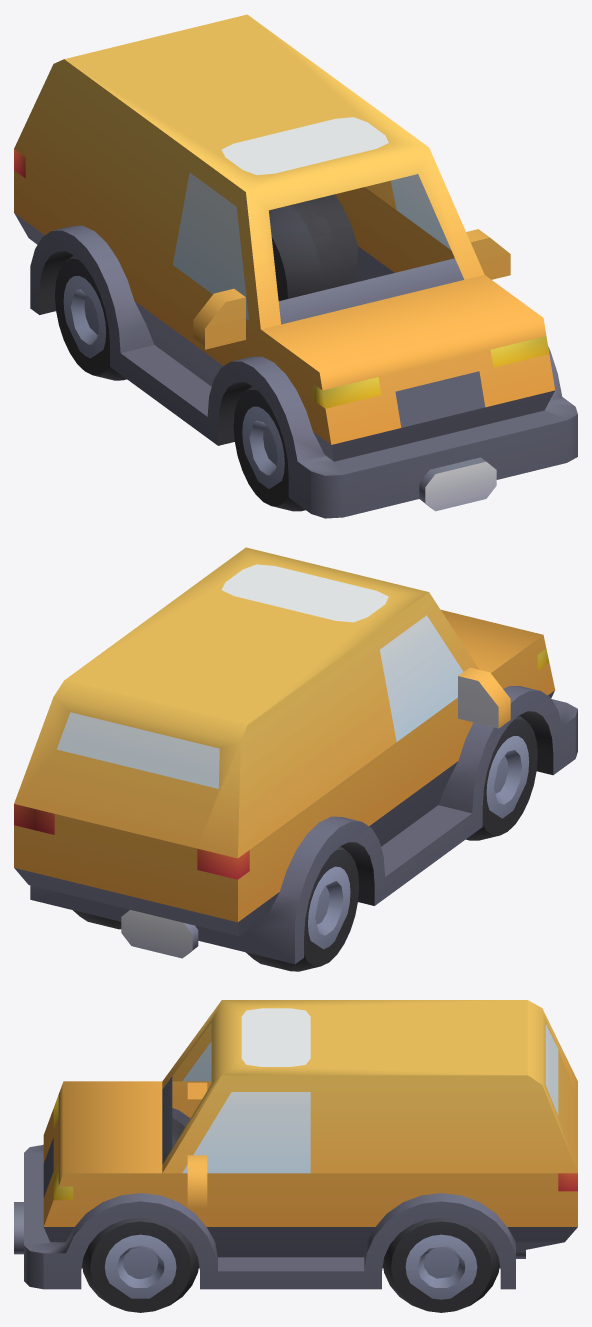
Rendered from traffic_prado.glb.
The picture shows the model from 3 angles, top to bottom: view 1: azimuth 30°, elevation 25°; view 2: azimuth 150°, elevation 25°; view 3: azimuth 270°, elevation 25°; orthographic projection. The views are drawn at different scales.
Visible parts, largest first — view 1: wheel-back-right; view 2: wheel-back-right; view 3: wheel-back-right.
Part boxes in pixels (<box>): wheel-back-right: <box>14,14,577,518</box>; wheel-back-right: <box>14,547,577,971</box>; wheel-back-right: <box>14,1000,577,1312</box>.
Size of the model in its own units: 1.5 by 1.3 by 2.85.
1 material, 1 textured.
